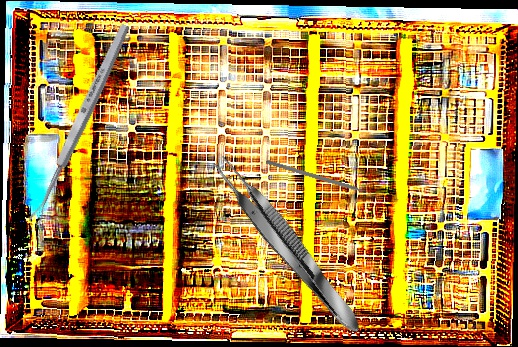Chopper: (264, 159, 376, 203)
Surgical Spoon: (26, 22, 133, 226)
Tissue Forceps: (205, 149, 370, 342)
